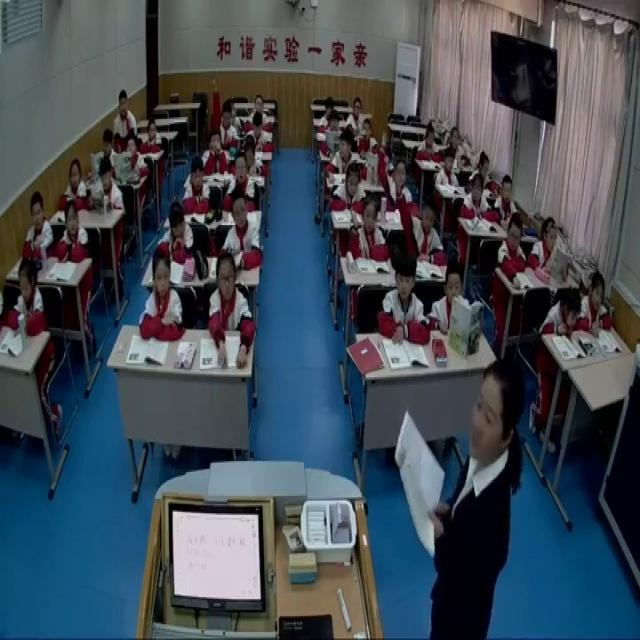distracted: (326, 132, 366, 179)
focused: (211, 253, 255, 368), (378, 256, 431, 349), (140, 250, 183, 346), (431, 260, 476, 342), (328, 158, 375, 219), (228, 194, 264, 271), (6, 262, 46, 330), (23, 193, 58, 267), (540, 284, 582, 343), (496, 212, 529, 282), (581, 266, 613, 334), (56, 202, 91, 262), (530, 214, 564, 275), (160, 202, 197, 256), (91, 154, 123, 210), (226, 154, 256, 212), (458, 175, 494, 221), (111, 86, 139, 144), (494, 172, 523, 224), (62, 157, 90, 208), (416, 120, 444, 170), (243, 93, 274, 137), (184, 160, 210, 211), (244, 114, 274, 158), (203, 126, 228, 178), (435, 148, 463, 194), (446, 119, 474, 162), (470, 146, 496, 192), (123, 134, 149, 179), (324, 111, 348, 156), (244, 138, 265, 181), (348, 95, 368, 135), (97, 126, 116, 165), (143, 121, 162, 157), (358, 120, 379, 151)
raising_hand: (394, 170, 444, 264), (348, 197, 390, 264), (378, 130, 413, 209), (210, 77, 238, 148)
